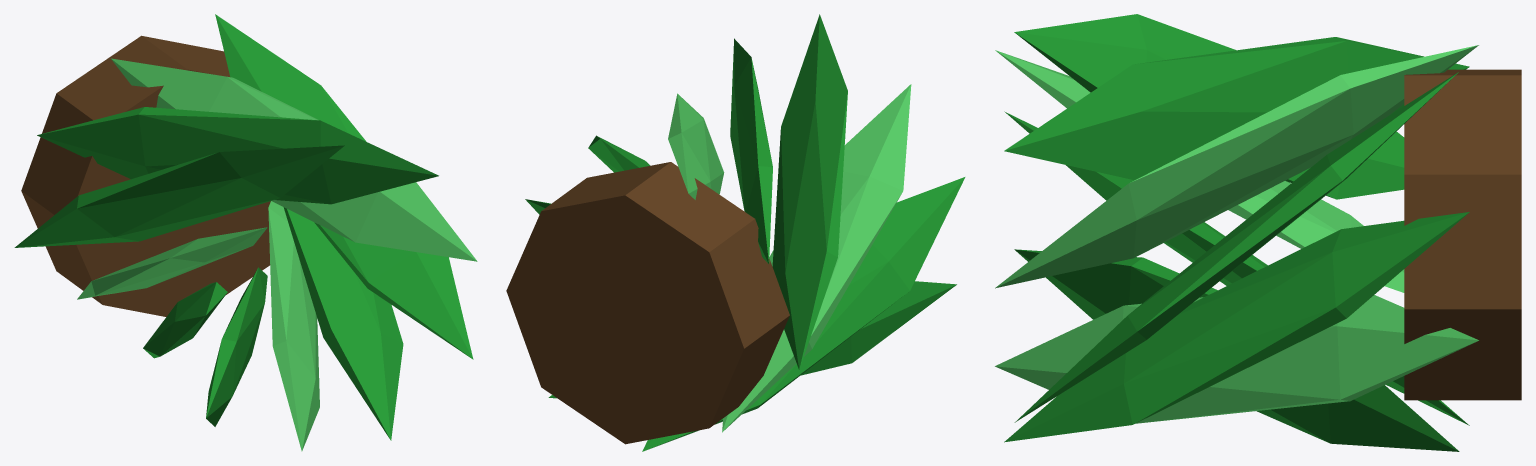
Rendered from 3_growing.obj.
The picture shows the model from 3 angles, left to right: view 1: azimuth 30°, elevation 25°; view 2: azimuth 150°, elevation 25°; view 3: azimuth 270°, elevation 25°; orthographic projection. The views are drawn at different scales.
Parts seen in each view (by area): view 1: guam_3_growing; view 2: guam_3_growing; view 3: guam_3_growing.
Boxes of the visible parts, box(x1,y1,x2,y2) form: guam_3_growing: box(14, 14, 477, 451); guam_3_growing: box(506, 14, 965, 451); guam_3_growing: box(995, 14, 1521, 451).
Size of the model in its own units: 0.1511 by 0.1483 by 0.1797.
